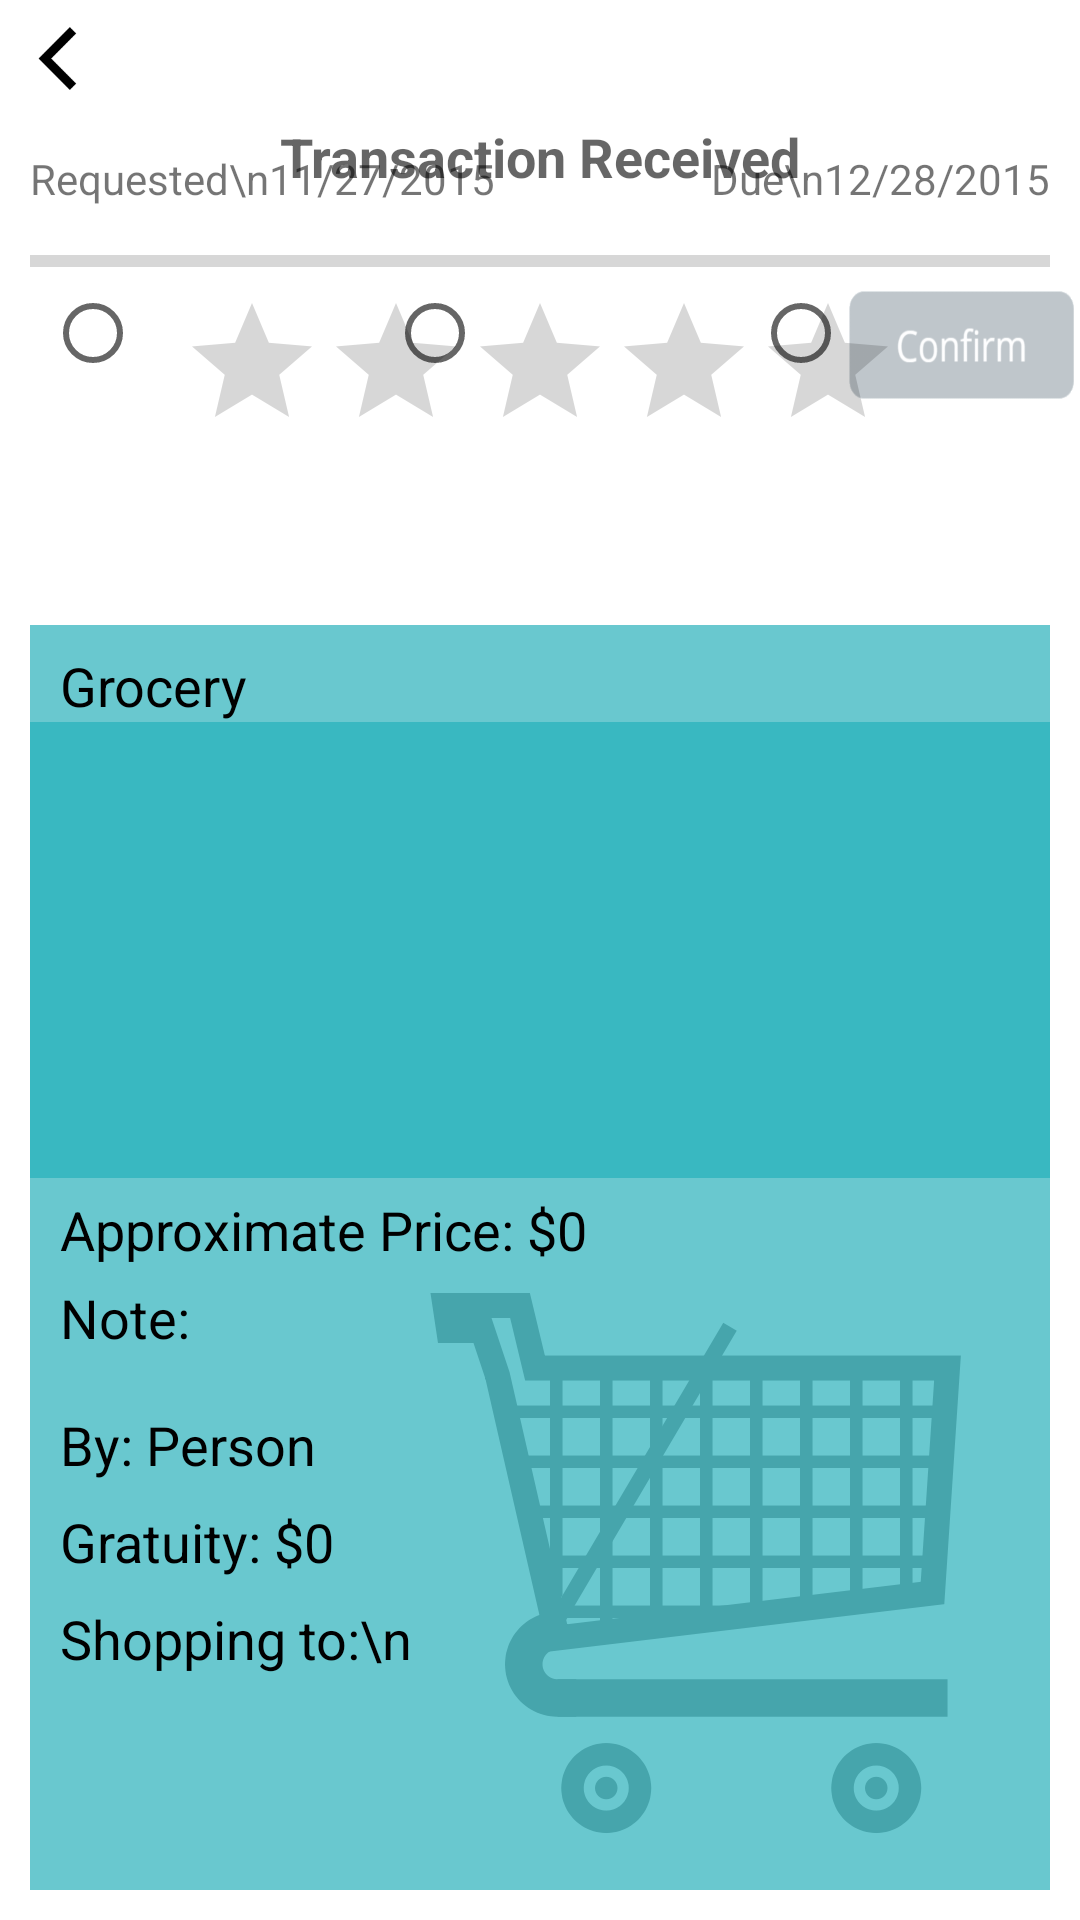

Screen size 1080x1920. Icon name, then its center in pixels as (x=x, y=y):
back: (x=57, y=58)
